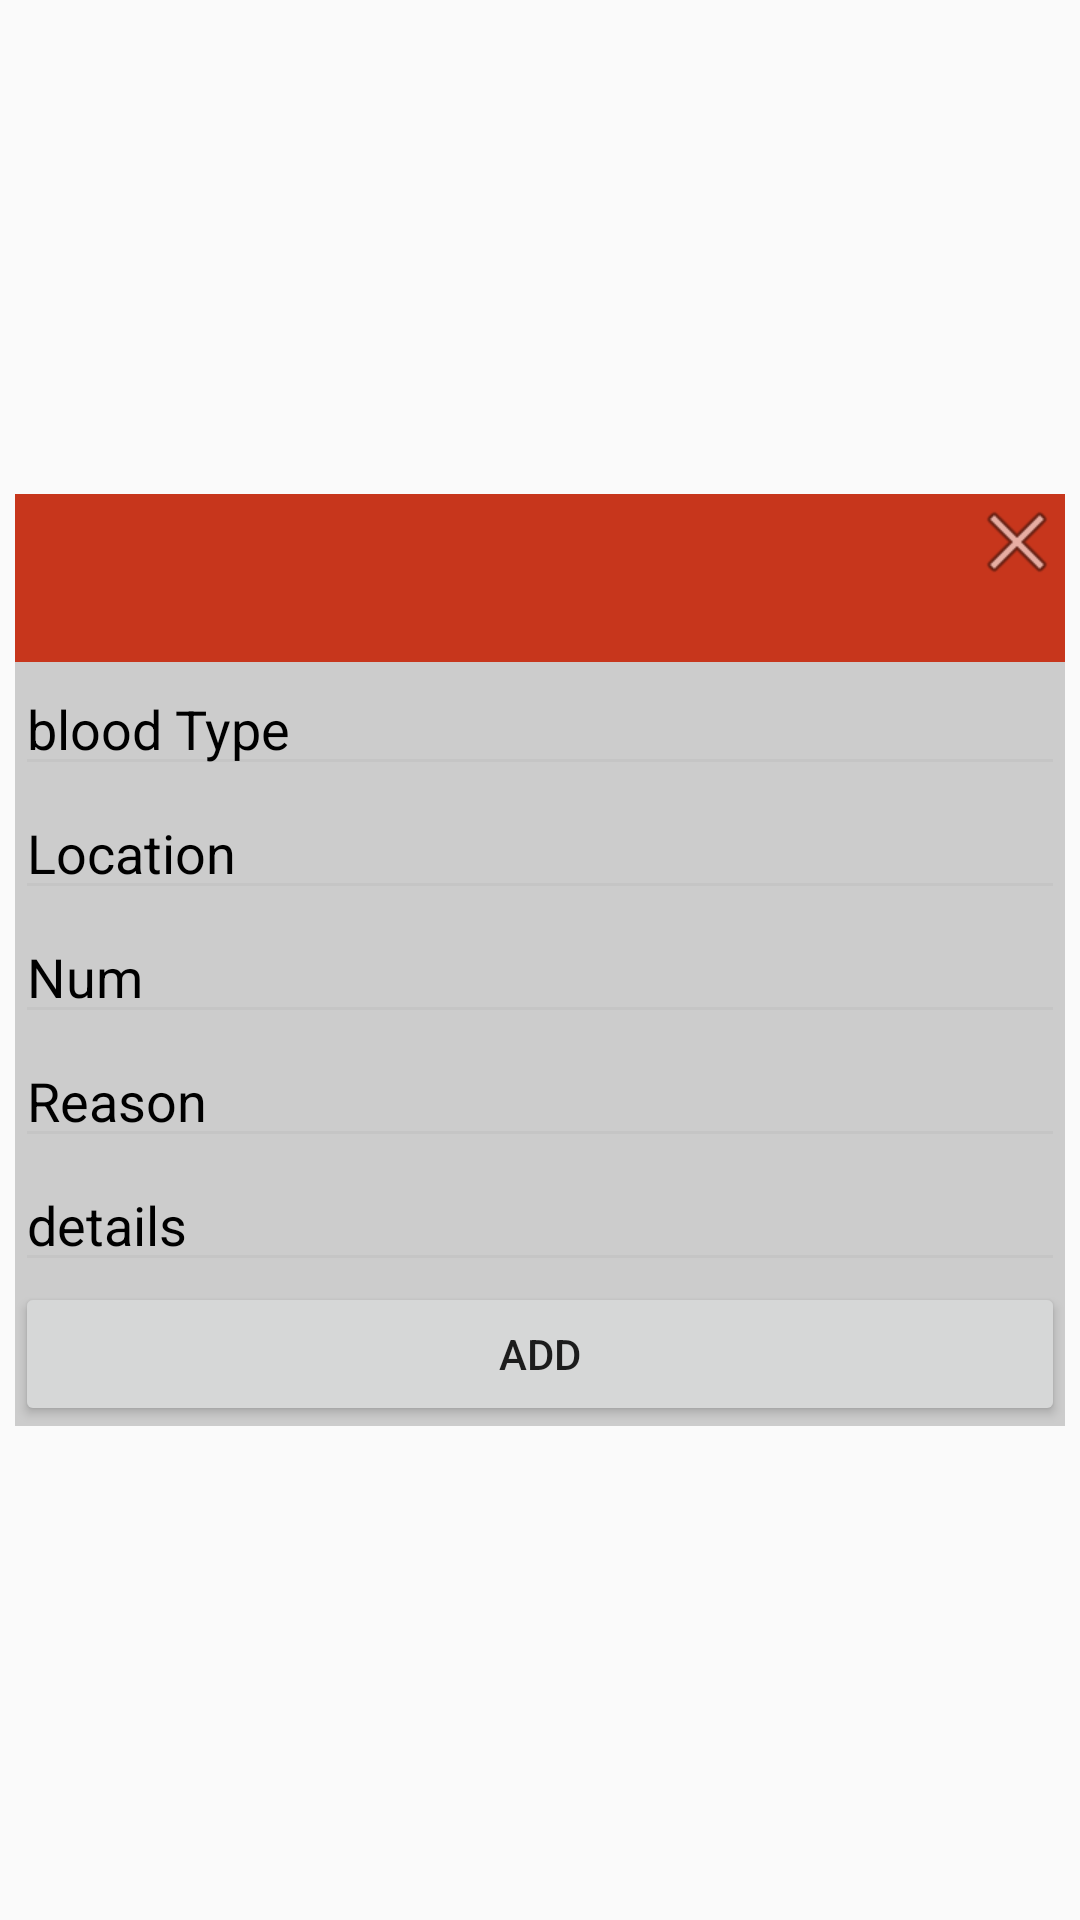

Named icons in this screenshot (1080w x 1920h) and their centers, point (x, y):
close clear cancel: point (1017, 542)
